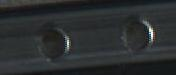joints: (116, 13, 156, 55), (32, 22, 71, 61)
